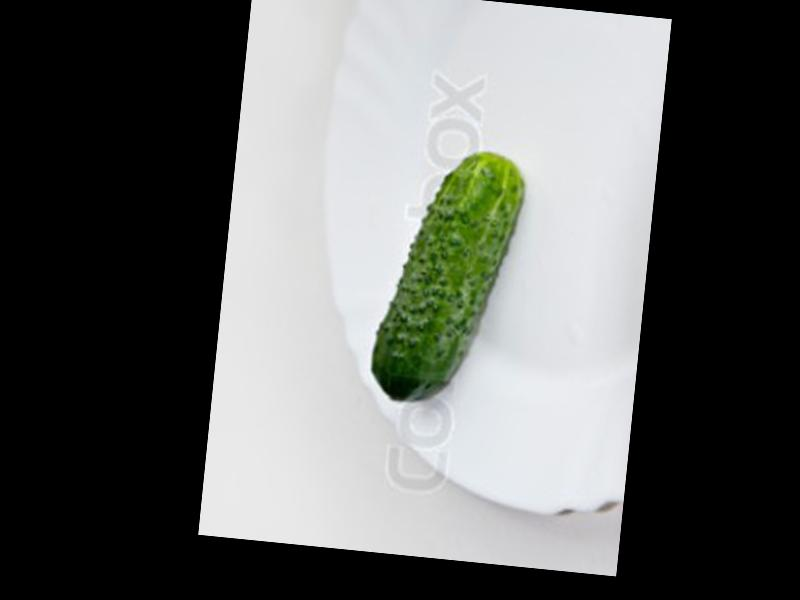Cucumber: (368, 144, 528, 408)
